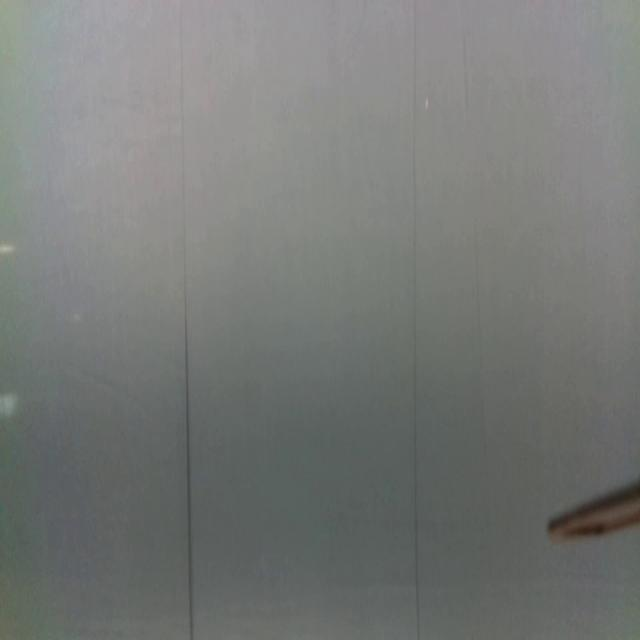crease: (178, 0, 194, 640), (410, 0, 420, 640)
hole: (425, 96, 430, 112)
